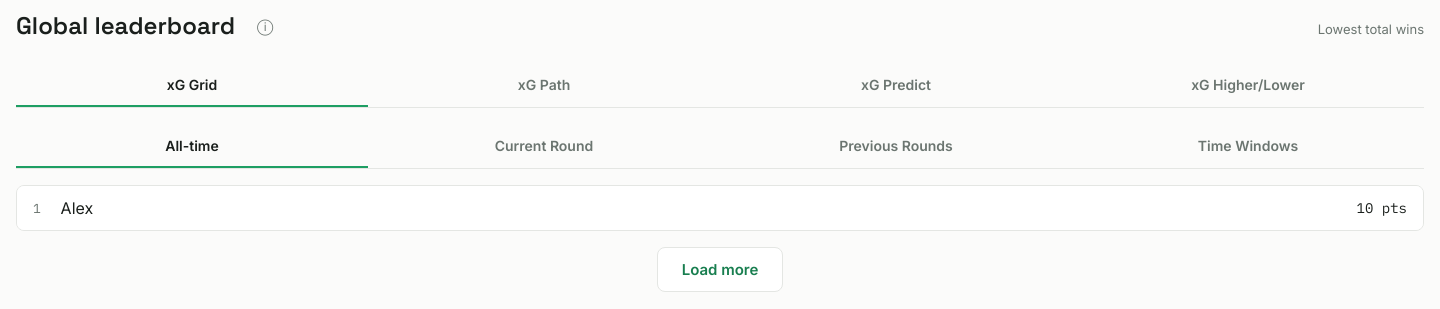
Test case: AllTimeLeaderboard › REQ-607: the 15s poll only ever refreshes page 1 — a second page loaded via "Load more" survives the next poll tick
Expected: the text "10 pts" is shown, 1357,199 -> 1407,217
Click the button "Load more". click: (720, 270)
box: 657,247 -> 783,292
Wait 15000 ms
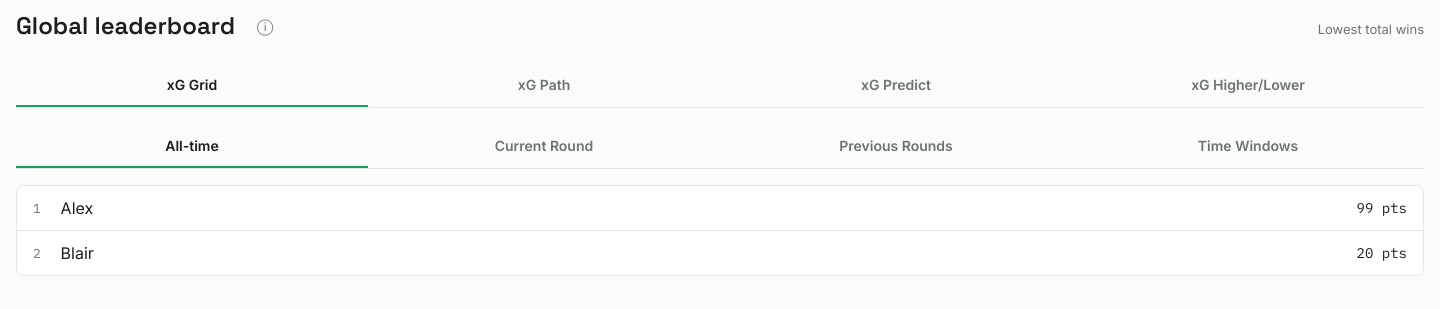
Result: the text "99 pts" is shown at 1357,199 -> 1407,217
Result: the text "Blair" is shown at 61,243 -> 94,263
Result: the number of list items is 2 at 17,186 -> 1423,231; 17,231 -> 1423,275
